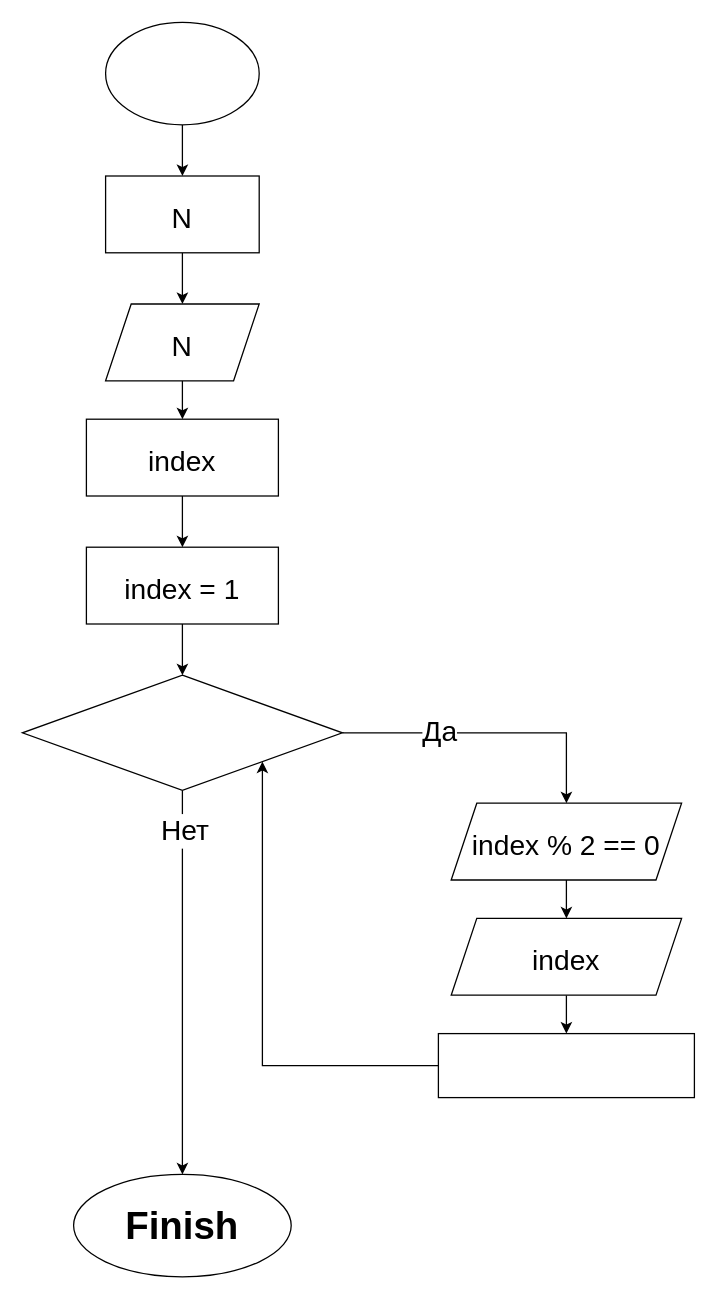
The diagram is 717 pixels wide and 1299 high, and some of its shapes have lost their labels. The centre of each missing label's shape, as x and y in pixels:
"index <= N" goes at point 181,732.
"index = index + 1" goes at point 565,1065.
"Start" goes at point 181,73.
